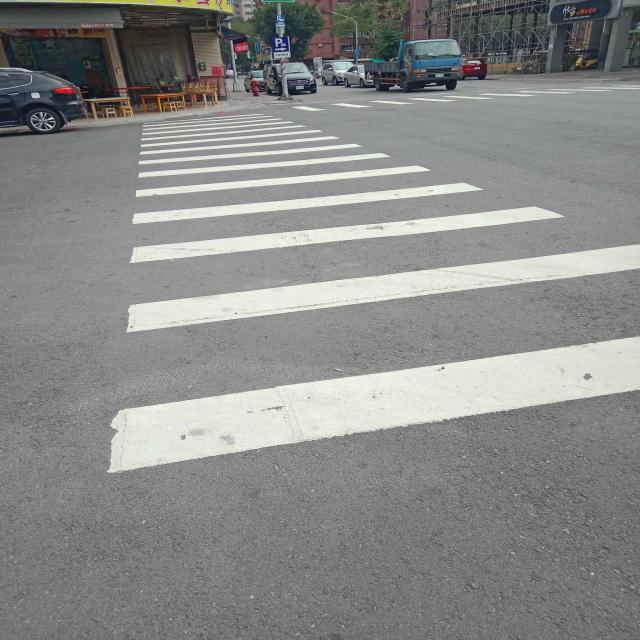zebra crossing: (113, 115, 638, 476), (288, 85, 632, 113)
